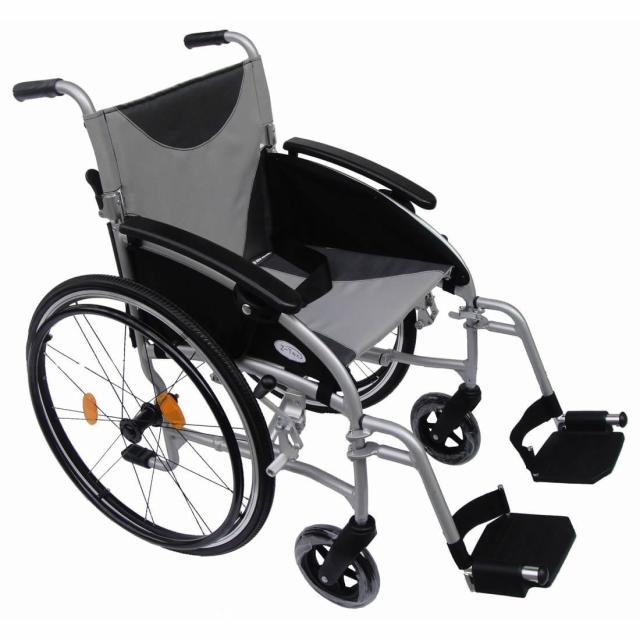wheelchair: (12, 21, 640, 613)
